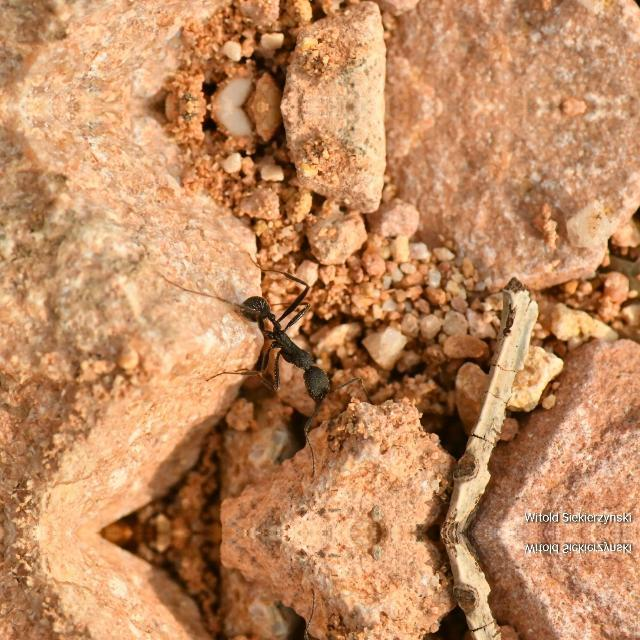Apheanogaster: (210, 276, 362, 412)
